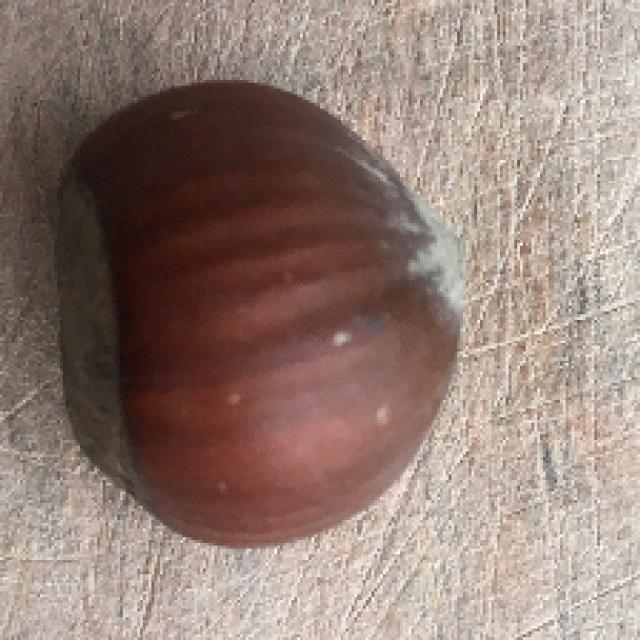DamagedHazelnut: (55, 81, 466, 546)
